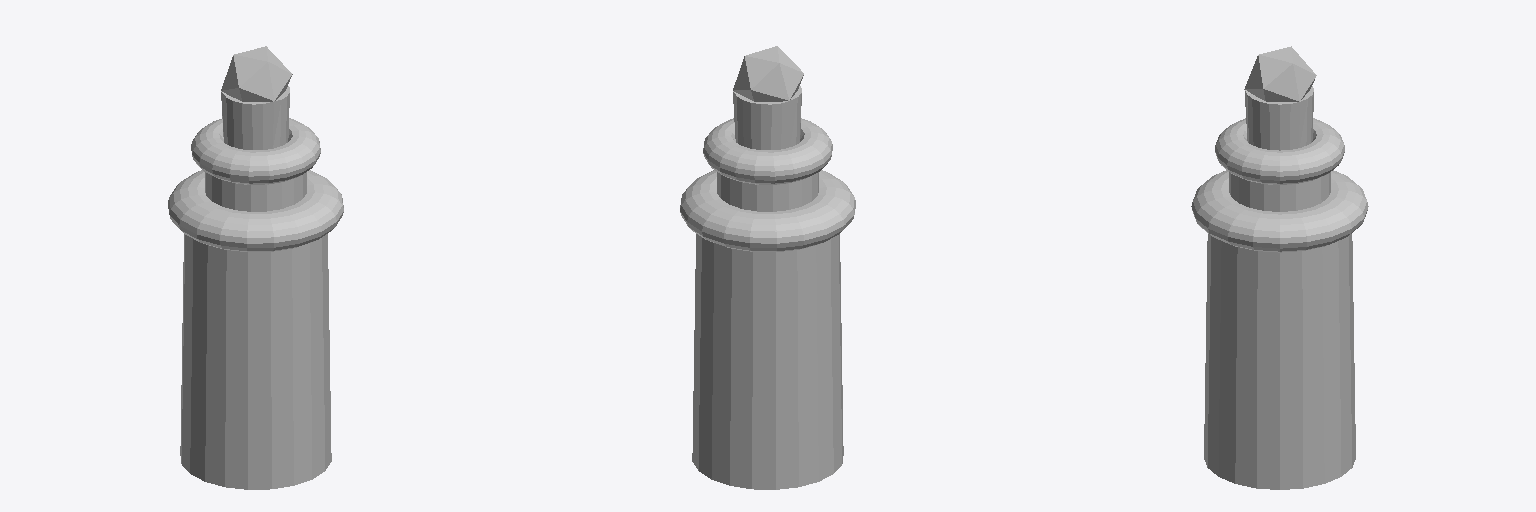
Rendered from Pylon.obj.
3 views of the same model, side by side, from view 1: azimuth 30°, elevation 25°; view 2: azimuth 150°, elevation 25°; view 3: azimuth 270°, elevation 25° (orthographic).
Parts seen in each view (by area): view 1: pCylinder3; view 2: pCylinder3; view 3: pCylinder3.
Boxes of the visible parts, x1,y1,x2,y2 form: pCylinder3: [168, 46, 343, 489]; pCylinder3: [680, 46, 855, 489]; pCylinder3: [1191, 46, 1368, 489].
Size of the model in its own units: 4.75 by 11.94 by 4.75.